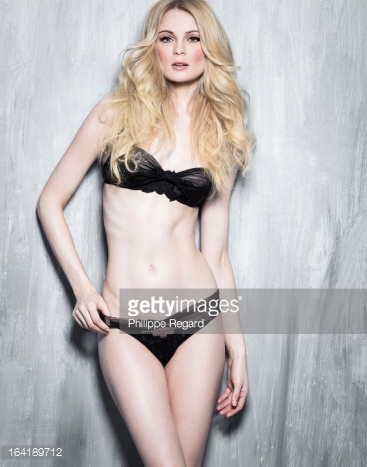em pe: (47, 0, 249, 466)
